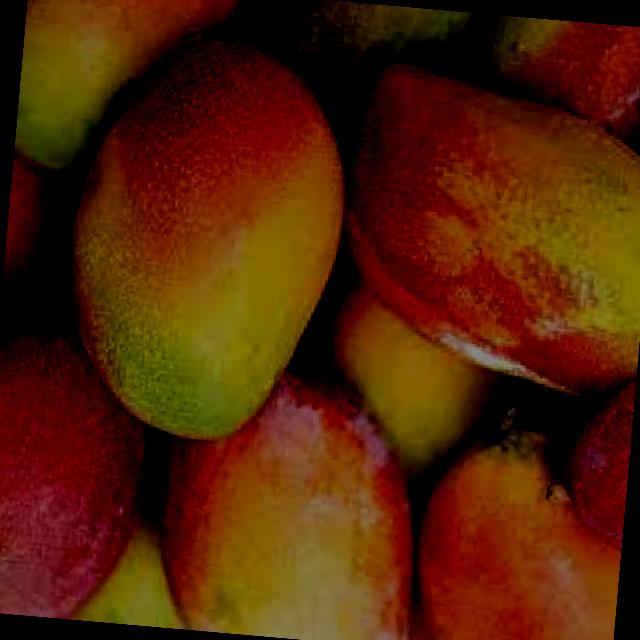Mango: (55, 37, 358, 453), (332, 57, 640, 407), (146, 348, 427, 640), (288, 254, 530, 516), (408, 413, 630, 640), (0, 314, 159, 625), (16, 0, 251, 196), (247, 0, 471, 137), (457, 11, 640, 166), (550, 377, 636, 557), (0, 161, 82, 347)
